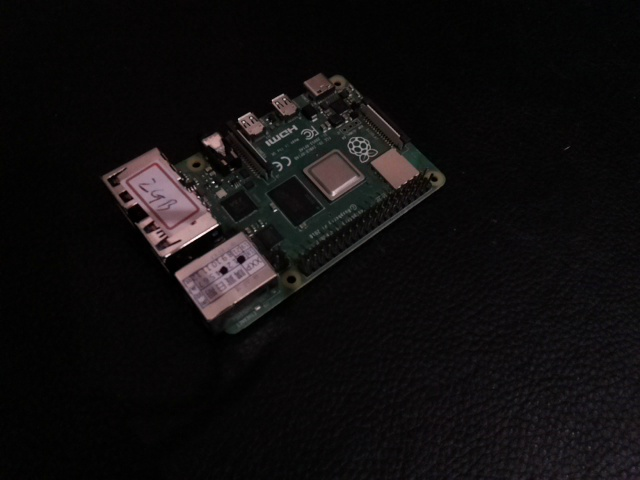pi4: (83, 34, 448, 399)
